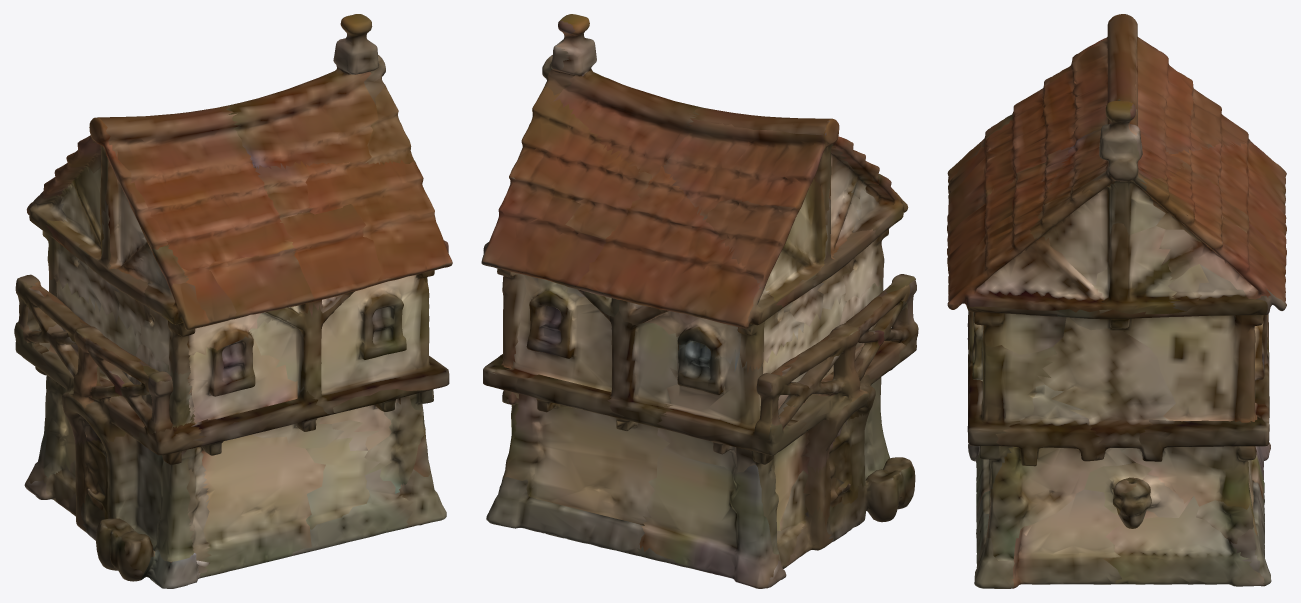
Rendered from building 5.glb.
3 views of the same model, side by side, from view 1: azimuth 30°, elevation 25°; view 2: azimuth 150°, elevation 25°; view 3: azimuth 270°, elevation 25° (orthographic). The views are drawn at different scales.
Parts seen in each view (by area): view 1: Mesh_0; view 2: Mesh_0; view 3: Mesh_0.
Part boxes in pixels (x1=…): Mesh_0: x1=14, y1=14, x2=452, y2=588; Mesh_0: x1=481, y1=14, x2=918, y2=588; Mesh_0: x1=947, y1=14, x2=1286, y2=588.
Bounding box in the file's own units: 0.385 × 0.5084 × 0.3309.
1 material, 1 textured.
